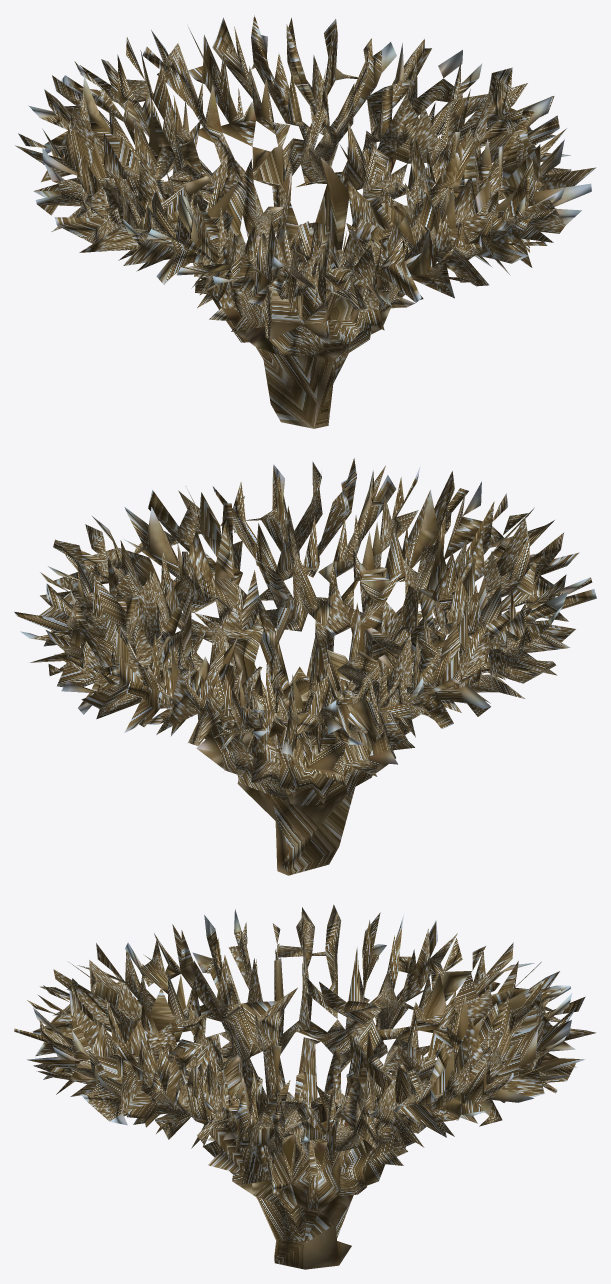
File: tafelkoraal.glb
3 renders of one model, top to bottom at view 1: azimuth 30°, elevation 25°; view 2: azimuth 150°, elevation 25°; view 3: azimuth 270°, elevation 25°, orthographic. The views are drawn at different scales.
Visible parts, largest first — view 1: tripo_node_9817f51b-ba46-4ed8-a3c5-67513dfbd44b; view 2: tripo_node_9817f51b-ba46-4ed8-a3c5-67513dfbd44b; view 3: tripo_node_9817f51b-ba46-4ed8-a3c5-67513dfbd44b.
Boxes of the visible parts, left/top/right/bottom form: tripo_node_9817f51b-ba46-4ed8-a3c5-67513dfbd44b: left=15, top=15, right=596, bottom=428; tripo_node_9817f51b-ba46-4ed8-a3c5-67513dfbd44b: left=14, top=458, right=596, bottom=875; tripo_node_9817f51b-ba46-4ed8-a3c5-67513dfbd44b: left=14, top=904, right=596, bottom=1269.
Bounding box in the file's own units: 0.4581 × 0.2496 × 0.5082.
1 material, 1 textured.
